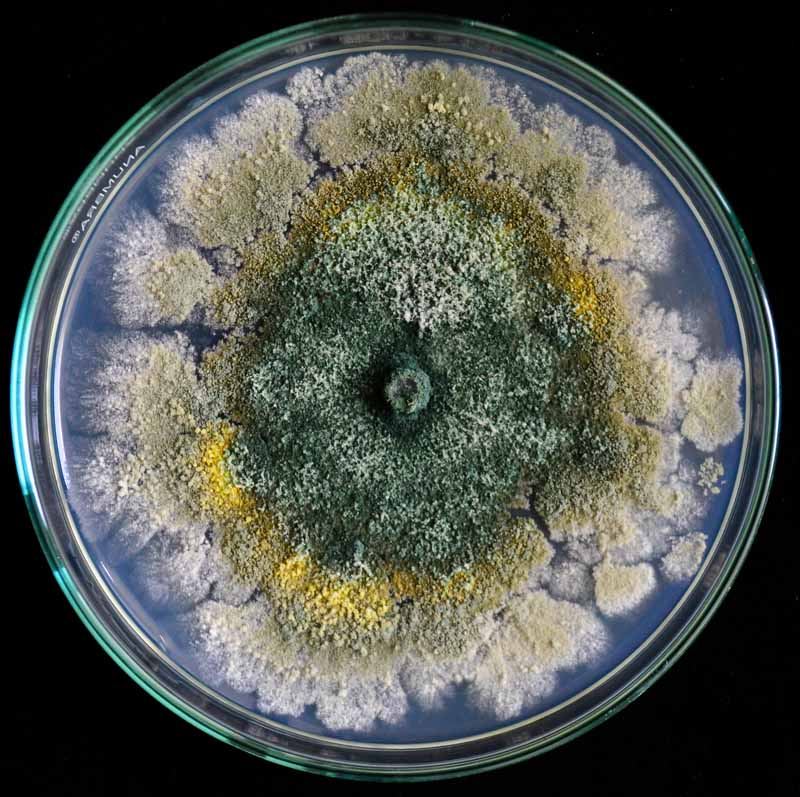Trichoderma: (130, 162, 695, 618), (343, 190, 546, 394), (109, 353, 257, 538), (161, 135, 313, 273), (372, 460, 490, 568)
